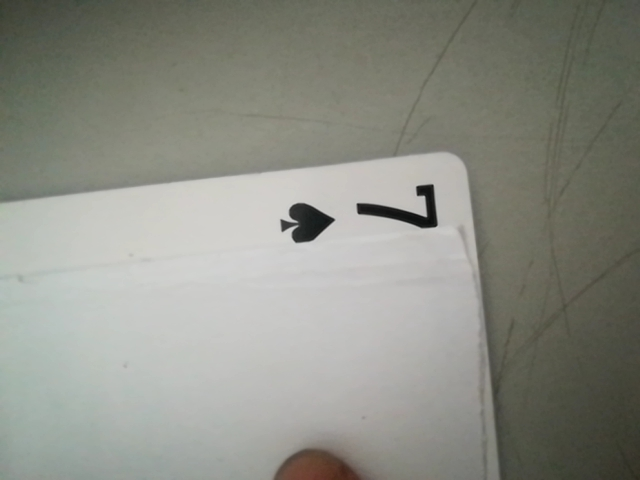ht 7: (261, 178, 460, 248)
